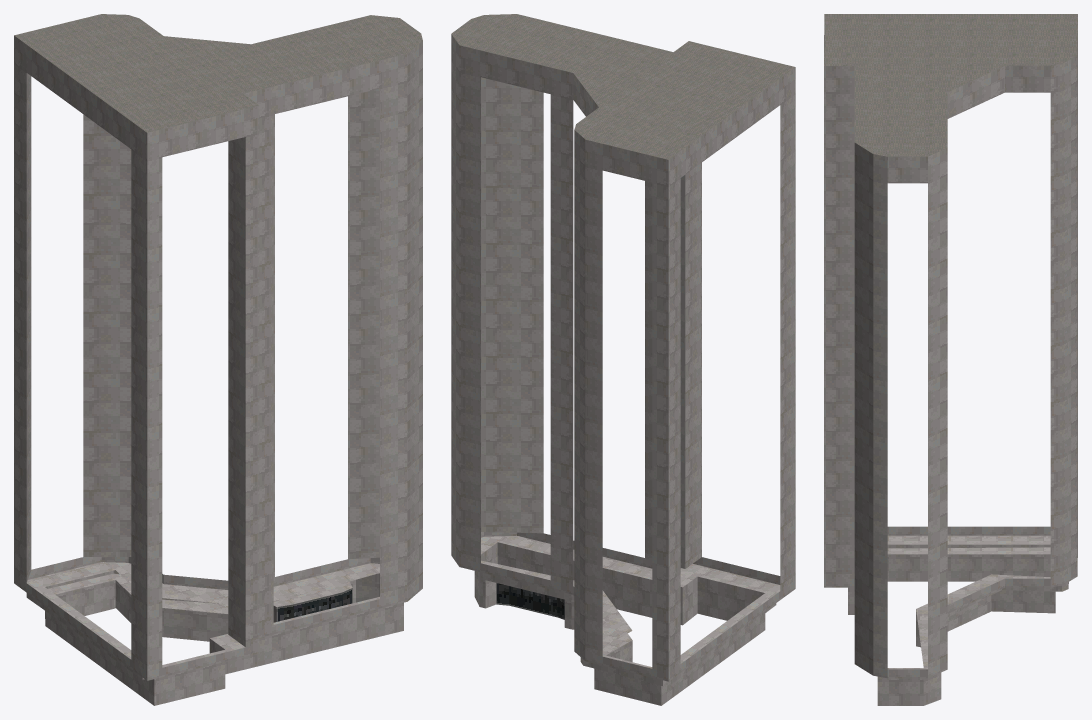
Rendered from lodskyscrapn203.obj.
The picture shows the model from 3 angles, left to right: view 1: azimuth 30°, elevation 25°; view 2: azimuth 150°, elevation 25°; view 3: azimuth 270°, elevation 25°; orthographic projection. The views are drawn at different scales.
Visible parts, largest first — view 1: LODskyscrapn203; view 2: LODskyscrapn203; view 3: LODskyscrapn203.
Boxes of the visible parts, left/top/right/bottom form: LODskyscrapn203: left=14, top=14, right=422, bottom=705; LODskyscrapn203: left=451, top=14, right=795, bottom=705; LODskyscrapn203: left=824, top=14, right=1077, bottom=705.
Size of the model in its own units: 65.07 by 119 by 48.86.
Materials: 3 (3 with a texture image).
